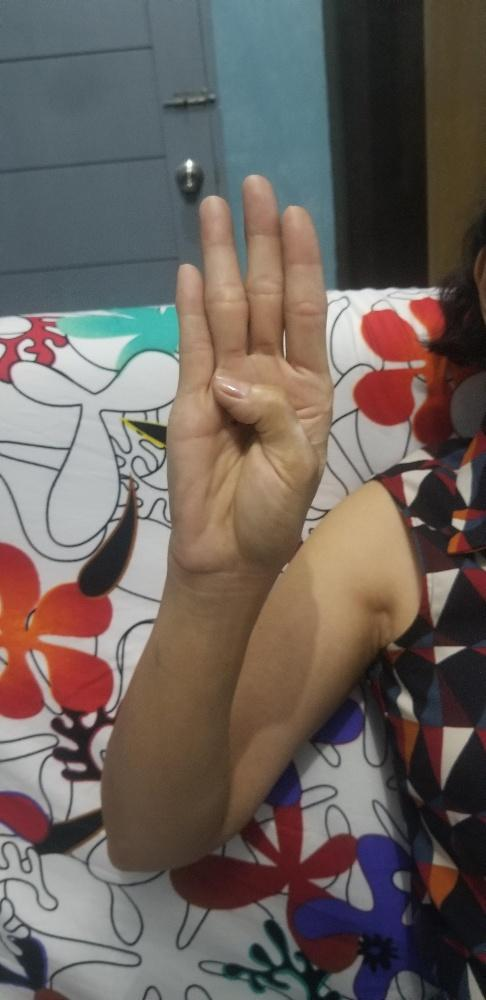b: (163, 171, 336, 568)
